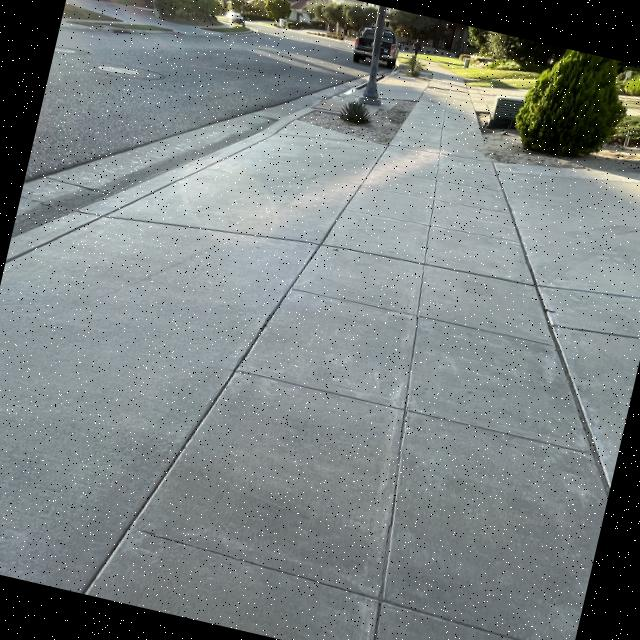walkway: (153, 436, 596, 640), (255, 287, 560, 513), (316, 184, 512, 414), (385, 80, 485, 268)
